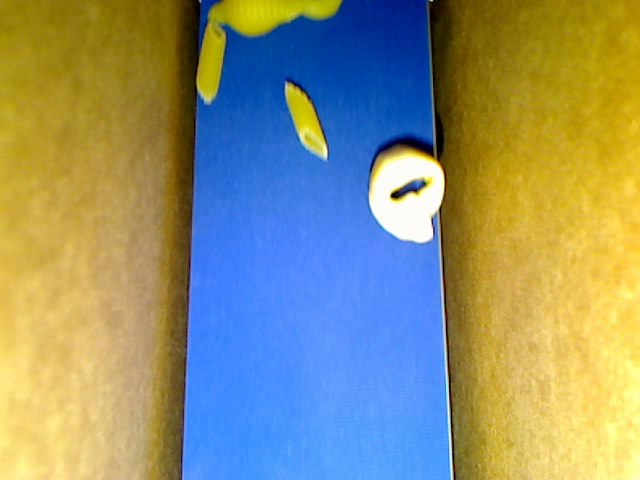penne: (282, 82, 328, 160), (195, 21, 225, 103)
shell: (207, 1, 303, 39)
tortellini: (369, 145, 446, 242)
